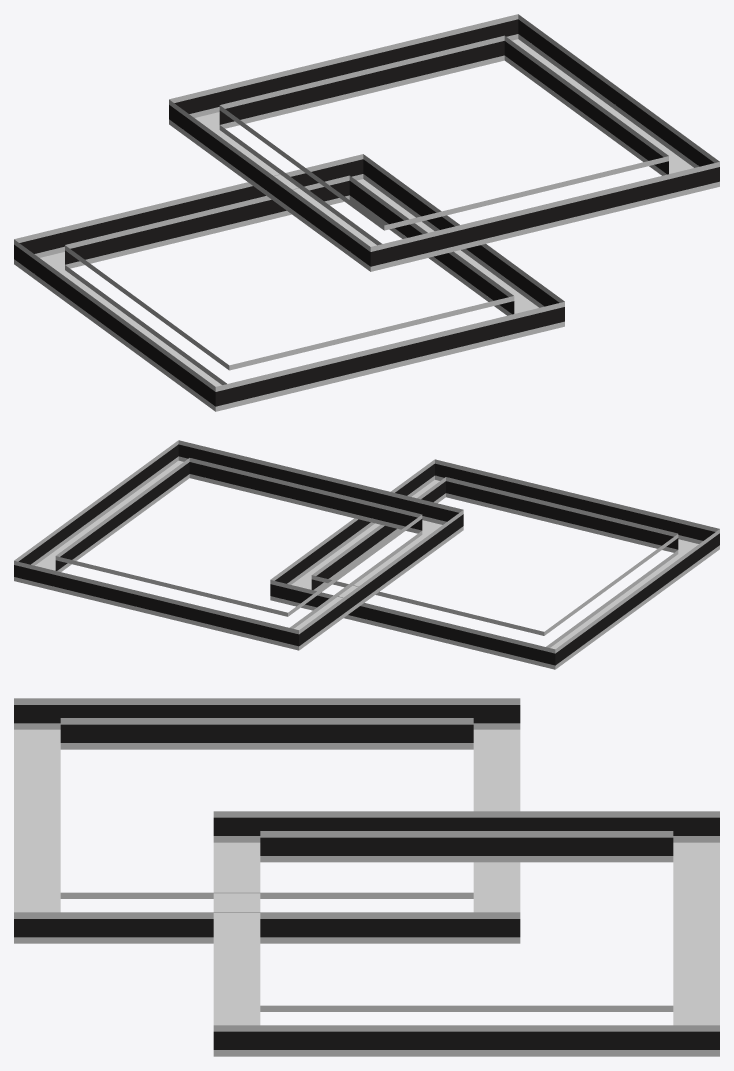
File: M_xidingdeng02.FBX
The picture shows the model from 3 angles, top to bottom: view 1: azimuth 30°, elevation 25°; view 2: azimuth 150°, elevation 25°; view 3: azimuth 270°, elevation 25°; orthographic projection. The views are drawn at different scales.
Visible parts, largest first — view 1: M_xidingdeng02_01, M_xidingdeng02_02; view 2: M_xidingdeng02_01, M_xidingdeng02_02; view 3: M_xidingdeng02_02, M_xidingdeng02_01.
Boxes of the visible parts, <box> form: M_xidingdeng02_01: <box>14,19,719,406</box>; M_xidingdeng02_02: <box>14,14,719,411</box>; M_xidingdeng02_01: <box>14,444,719,665</box>; M_xidingdeng02_02: <box>14,440,719,669</box>; M_xidingdeng02_02: <box>14,698,719,1056</box>; M_xidingdeng02_01: <box>14,705,719,1049</box>.
Bounding box in the file's own units: 3.55 × 0.2872 × 2.96.
